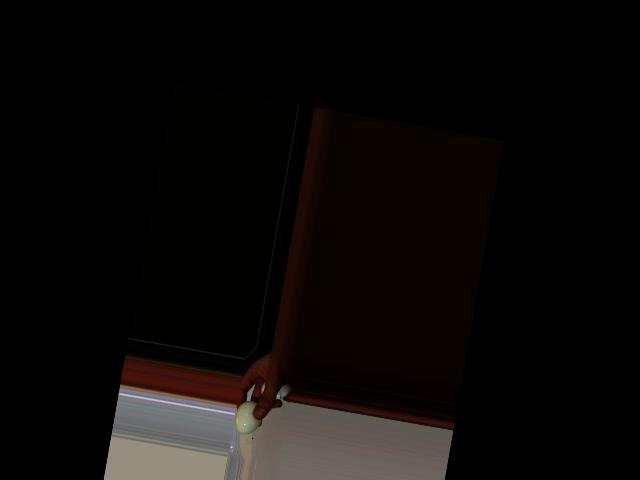egg: (232, 399, 265, 436)
